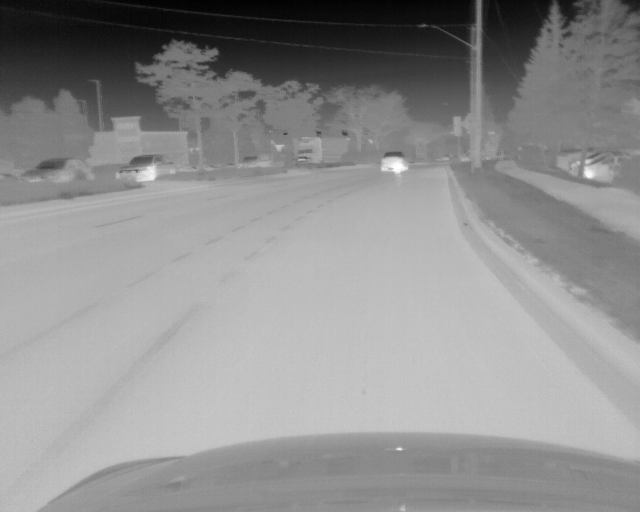car: (19, 156, 94, 184), (116, 155, 175, 181), (295, 137, 344, 167), (576, 155, 630, 181), (567, 151, 604, 170), (381, 151, 408, 173), (242, 154, 257, 164)
